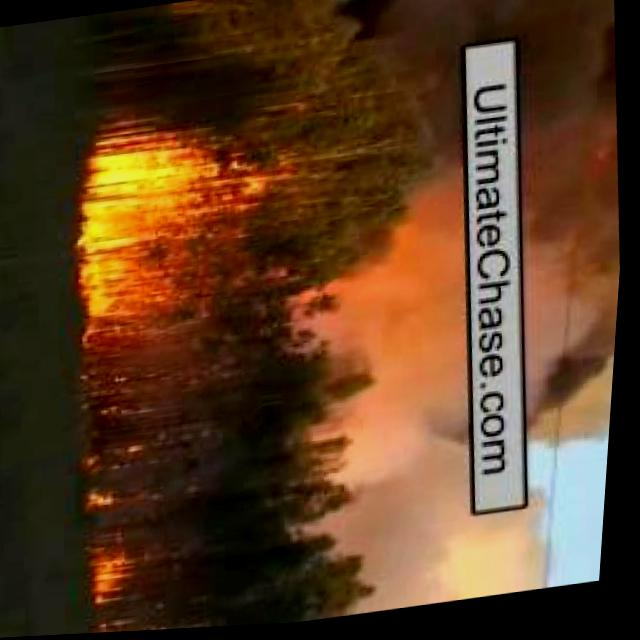helmet: (69, 114, 269, 336), (90, 445, 142, 517), (91, 553, 143, 612)
no_helmet: (224, 0, 511, 629), (484, 0, 640, 461)
